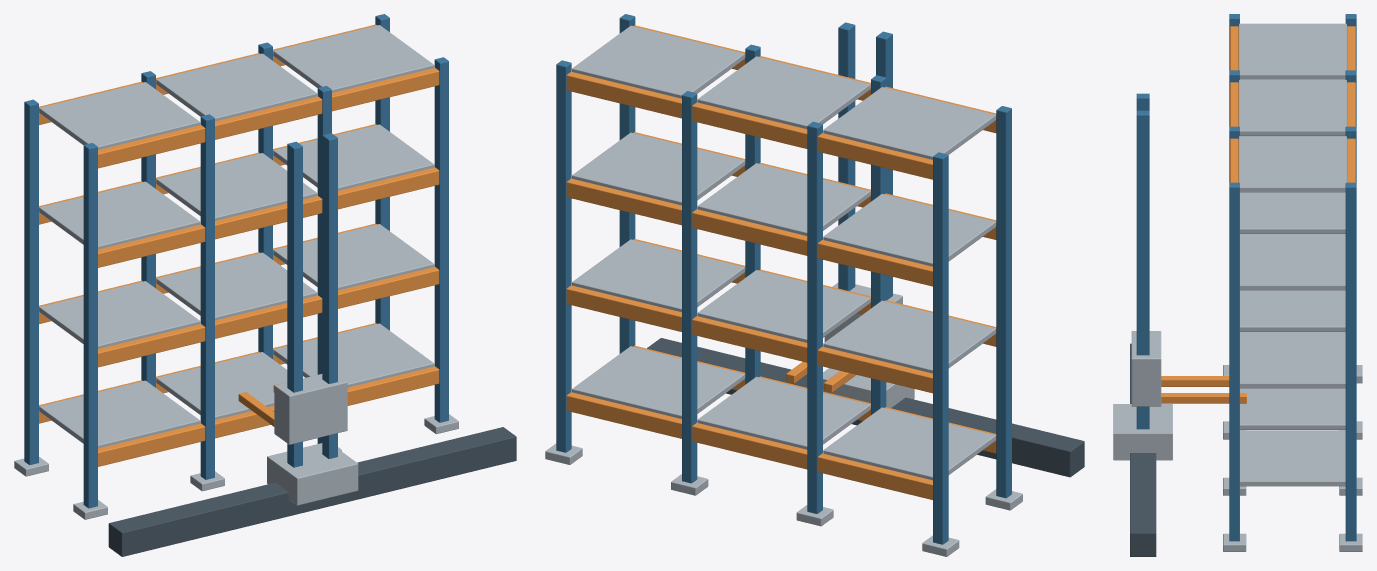
File: warehouse-assembled.glb
The picture shows the model from 3 angles, left to right: view 1: azimuth 30°, elevation 25°; view 2: azimuth 150°, elevation 25°; view 3: azimuth 270°, elevation 25°; orthographic projection. The views are drawn at different scales.
Parts seen in each view (by area): view 1: Travel rail, Shelf deck.009, Shelf deck.010, Shelf deck.011, Shelf crossbeam.006, Shelf crossbeam.004, Shelf crossbeam.002, Shelf deck.003, Shelf deck, Shelf deck.006, Rack upright, Rack upright.001 (+21 smaller); view 2: Shelf deck.009, Shelf deck.010, Shelf deck.011, Shelf crossbeam.005, Shelf crossbeam.003, Shelf crossbeam.001, Shelf crossbeam.007, Shelf deck.001, Shelf deck.007, Shelf deck.004, Shelf deck.006, Shelf deck.008 (+20 smaller); view 3: Shelf deck.009, Shelf deck.011, Shelf deck.010, Shelf deck.002, Shelf deck.005, Shelf deck.008, Shelf deck.004, Shelf deck.007, Shelf deck.001, Rack upright.007, Rack upright.006, Crane mast.001 (+9 smaller).
Part boxes in pixels (<box>): Travel rail: <box>108,427,516,556</box>; Shelf deck.009: <box>39,82,200,149</box>; Shelf deck.010: <box>156,53,317,121</box>; Shelf deck.011: <box>273,25,434,92</box>; Shelf crossbeam.006: <box>98,68,439,168</box>; Shelf crossbeam.004: <box>98,167,439,267</box>; Shelf crossbeam.002: <box>98,267,439,367</box>; Shelf deck.003: <box>39,281,200,348</box>; Shelf deck: <box>39,380,200,448</box>; Shelf deck.006: <box>39,181,200,249</box>; Rack upright: <box>83,143,97,508</box>; Rack upright.001: <box>24,99,38,464</box>; Shelf deck.009: <box>823,87,996,159</box>; Shelf deck.010: <box>697,56,870,128</box>; Shelf deck.011: <box>572,25,744,98</box>; Shelf crossbeam.005: <box>566,178,932,286</box>; Shelf crossbeam.003: <box>566,285,932,393</box>; Shelf crossbeam.001: <box>566,392,932,499</box>; Shelf crossbeam.007: <box>566,71,932,179</box>; Shelf deck.001: <box>697,376,870,449</box>; Shelf deck.007: <box>697,163,870,235</box>; Shelf deck.004: <box>697,270,870,342</box>; Shelf deck.006: <box>823,194,996,266</box>; Shelf deck.008: <box>572,132,744,205</box>; Shelf deck.009: <box>1238,23,1346,79</box>; Shelf deck.011: <box>1238,136,1346,192</box>; Shelf deck.010: <box>1238,80,1346,135</box>; Shelf deck.002: <box>1240,430,1345,486</box>; Shelf deck.005: <box>1240,332,1345,388</box>; Shelf deck.008: <box>1240,234,1345,290</box>; Shelf deck.004: <box>1240,290,1345,331</box>; Shelf deck.007: <box>1240,192,1345,233</box>; Shelf deck.001: <box>1240,388,1345,429</box>; Rack upright.007: <box>1345,182,1356,541</box>; Rack upright.006: <box>1229,182,1239,541</box>; Crane mast.001: <box>1136,110,1149,429</box>.
Bounding box in the file's own units: 2.7 × 2.4 × 1.5.
